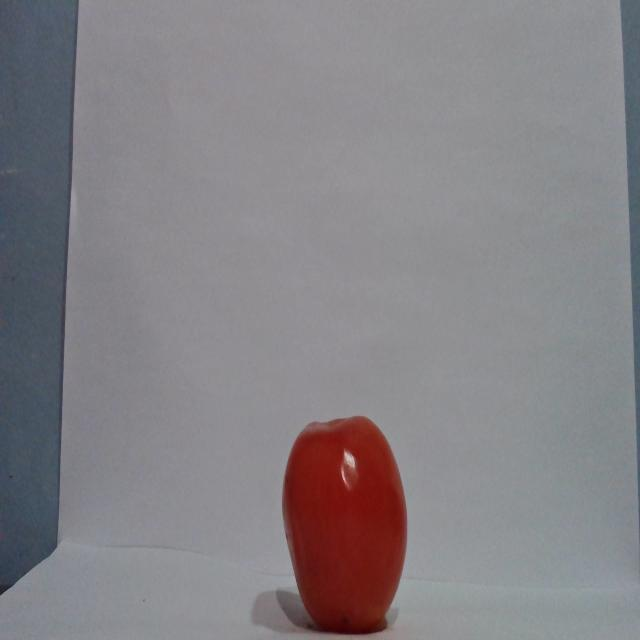Red: (280, 414, 408, 633)
